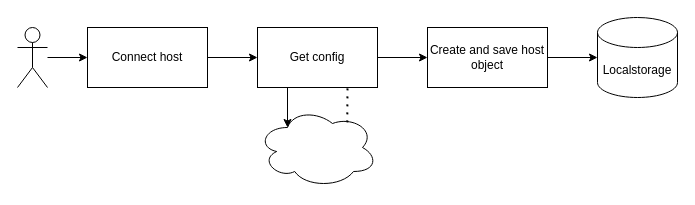
Some shapes in this 695 by 205 pixel diagram are drawn without their labels. Here are the shapes that lost their labels. From the top down, the box of each, then its label:
(16, 26, 48, 88): Actor
(256, 106, 378, 188): Miner
